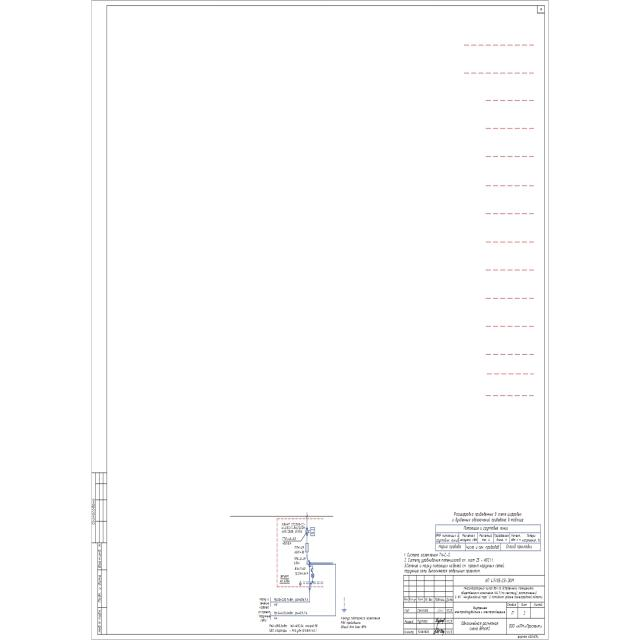-: (281, 522, 306, 534), (294, 566, 308, 576), (278, 574, 290, 584), (282, 537, 296, 545), (294, 556, 306, 565), (294, 545, 305, 554)
FU: (305, 542, 309, 552)
HL: (311, 572, 315, 578)
QF: (310, 566, 314, 572)
TT: (304, 526, 310, 536)
WH: (310, 526, 316, 536)
switch: (306, 559, 310, 565)
